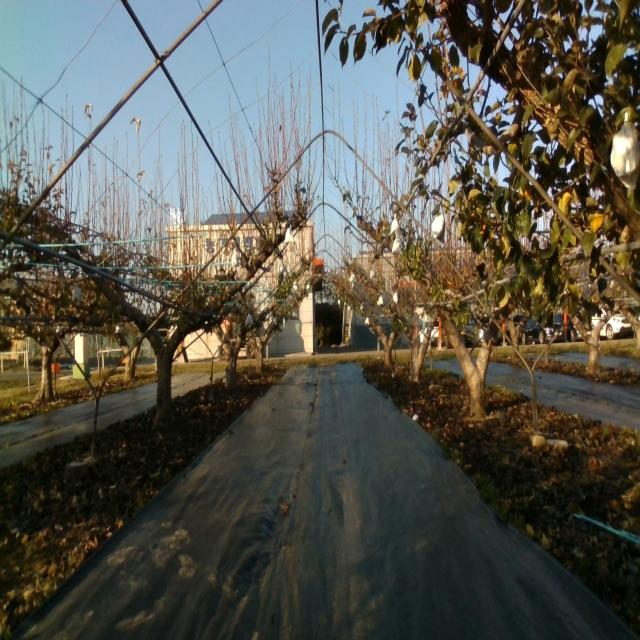pearbags: (608, 115, 640, 184), (432, 211, 445, 245)
